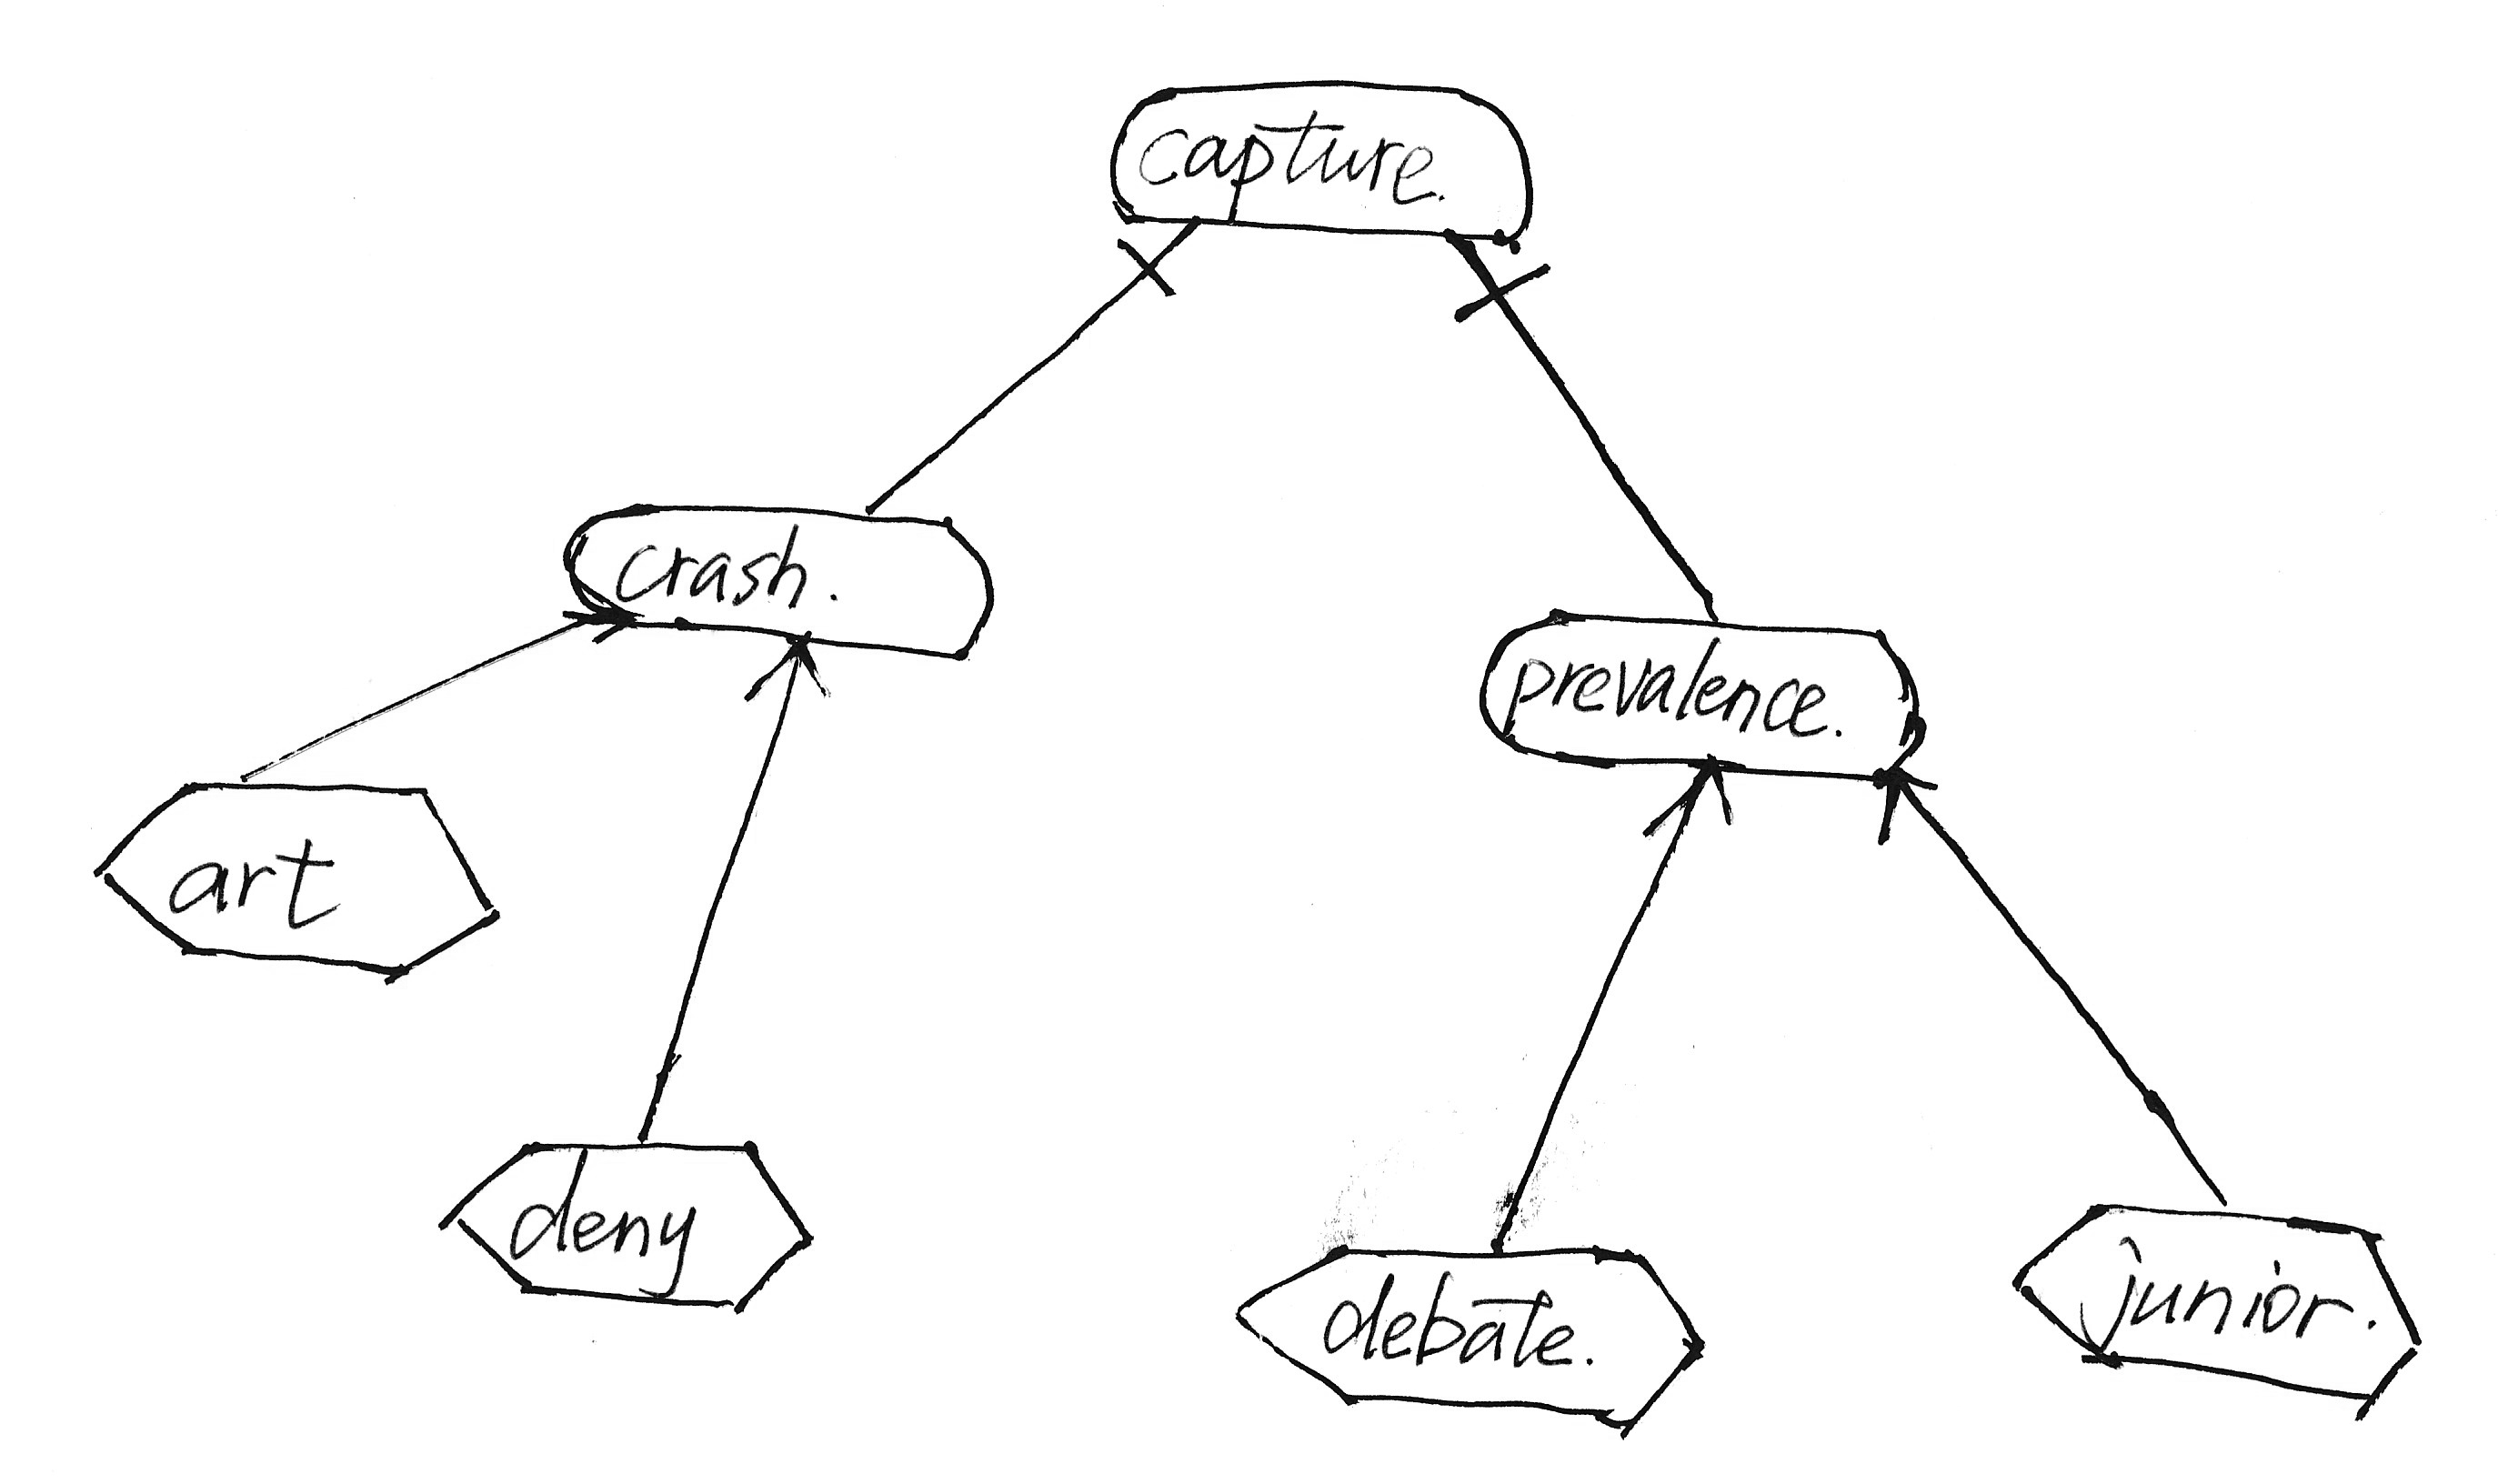and: (1426, 217, 1560, 334), (1115, 221, 1205, 311)
arrow: (1639, 749, 1763, 852), (735, 622, 846, 707), (1848, 751, 1947, 846), (549, 588, 657, 662)
goal: (1459, 595, 1942, 806), (1094, 58, 1555, 267), (544, 486, 1014, 678)
task: (1219, 1223, 1726, 1452), (74, 763, 526, 995), (2002, 1189, 2447, 1420), (422, 1127, 829, 1323)
